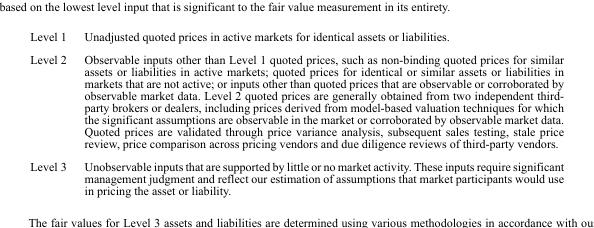table: (29, 29, 563, 196)
table column: (74, 29, 563, 196), (29, 29, 74, 196)
table row: (29, 47, 563, 154), (29, 154, 563, 196), (29, 29, 563, 47)
